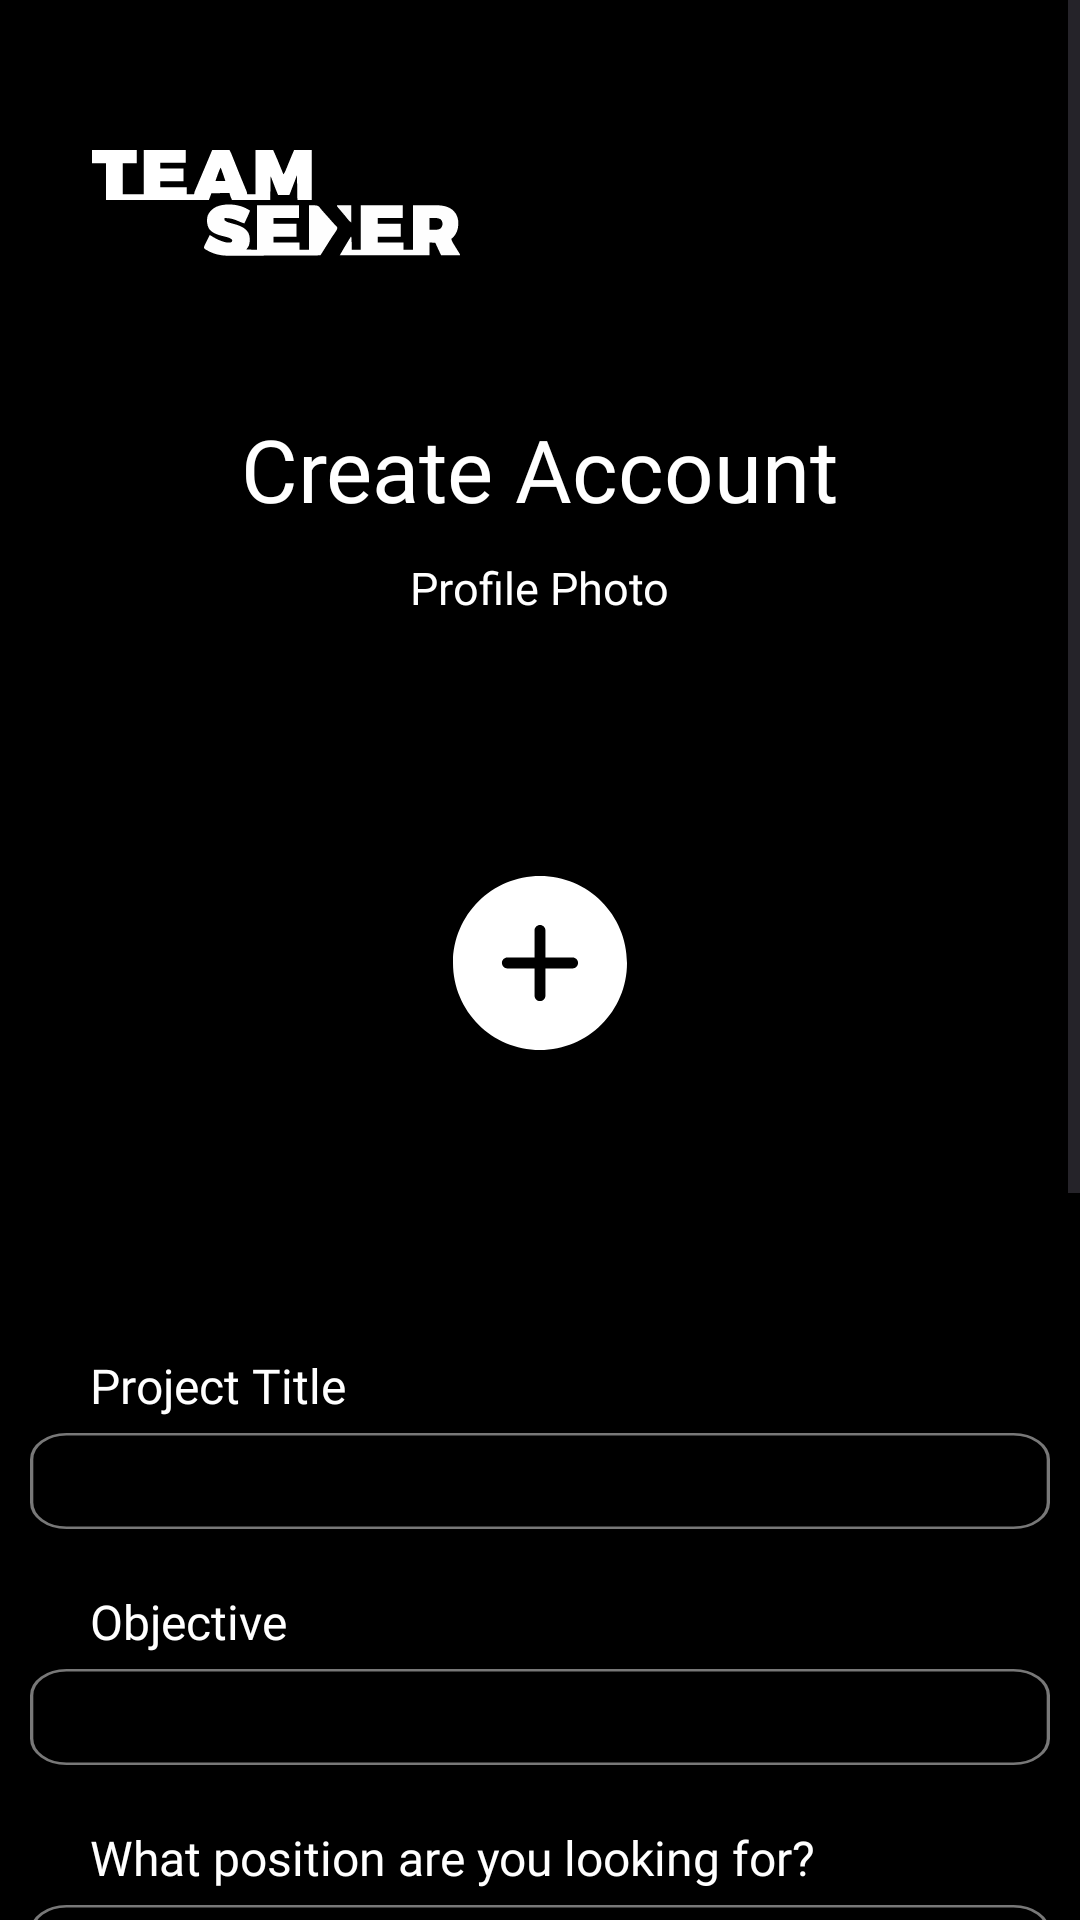

Screen size 1080*1920. Icon name, then its box in pixels as BBox(x1, y1, x2, y2):
plus circle: BBox(453, 876, 627, 1050)
